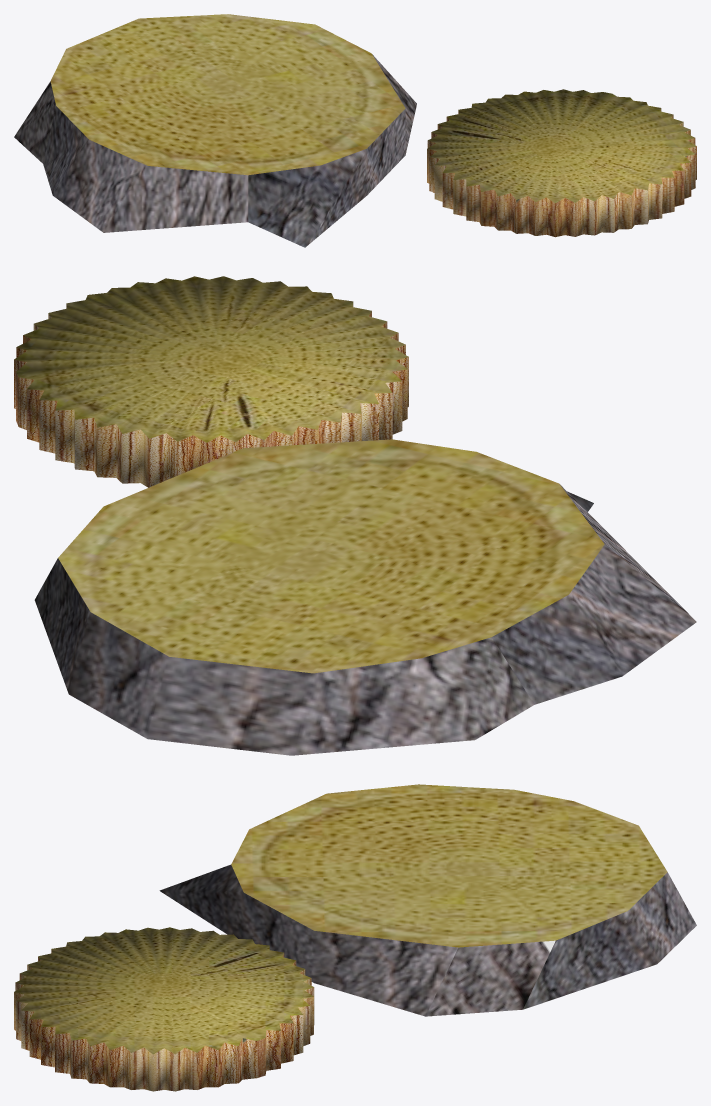
The model's file is mutong.FBX.
3 views of the same model, one above another, from view 1: azimuth 30°, elevation 25°; view 2: azimuth 150°, elevation 25°; view 3: azimuth 270°, elevation 25° (orthographic). The views are drawn at different scales.
Parts seen in each view (by area): view 1: Line001, Cylinder001; view 2: Line001, Cylinder001; view 3: Line001, Cylinder001.
Boxes of the visible parts, x1,y1,x2,y2 form: Line001: [14, 14, 416, 247]; Cylinder001: [427, 89, 696, 237]; Line001: [34, 439, 696, 755]; Cylinder001: [14, 276, 408, 487]; Line001: [159, 784, 696, 1016]; Cylinder001: [14, 927, 314, 1091].
Size of the model in its own units: 34.15 by 3 by 35.45.
